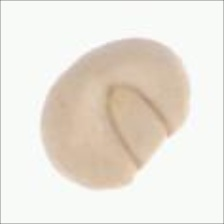L5: (105, 81, 172, 170)
L6: (35, 35, 193, 192)
